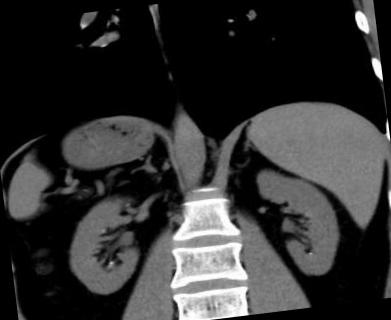Tas_Var: (98, 228, 107, 235), (306, 249, 314, 256), (107, 260, 115, 266)
